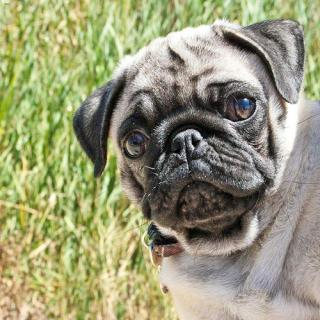dog: (71, 28, 320, 248)
nose: (170, 128, 207, 160)
